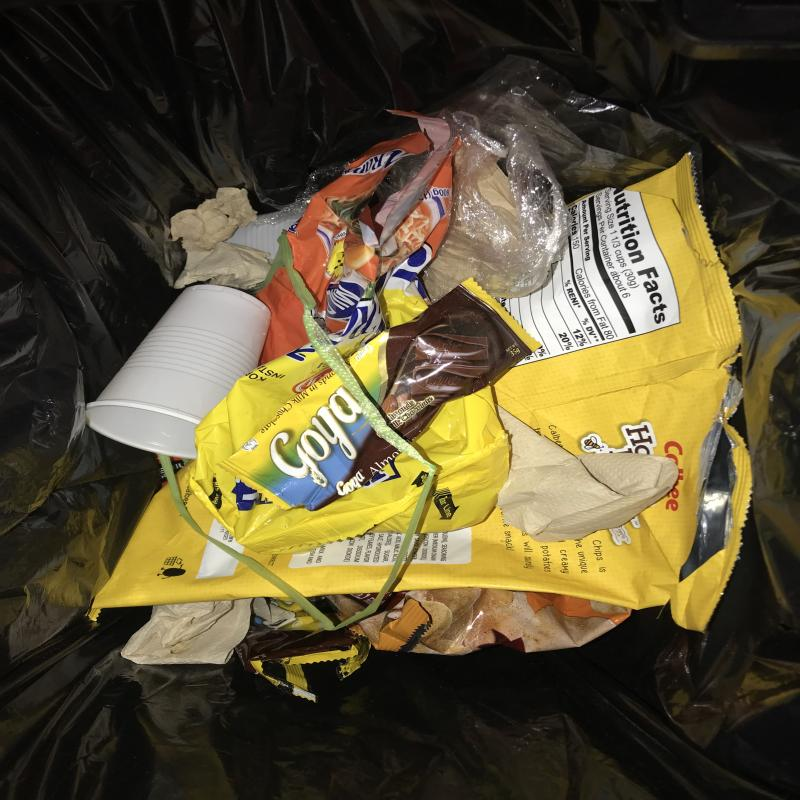food wrapper: (86, 151, 753, 631), (194, 222, 512, 557), (220, 276, 542, 508), (253, 110, 456, 366), (327, 588, 630, 655), (235, 628, 370, 696)
paper: (495, 402, 679, 543), (169, 188, 274, 287), (118, 599, 258, 665)
plastic bag: (421, 110, 569, 302)
plastic container: (83, 282, 271, 458)
